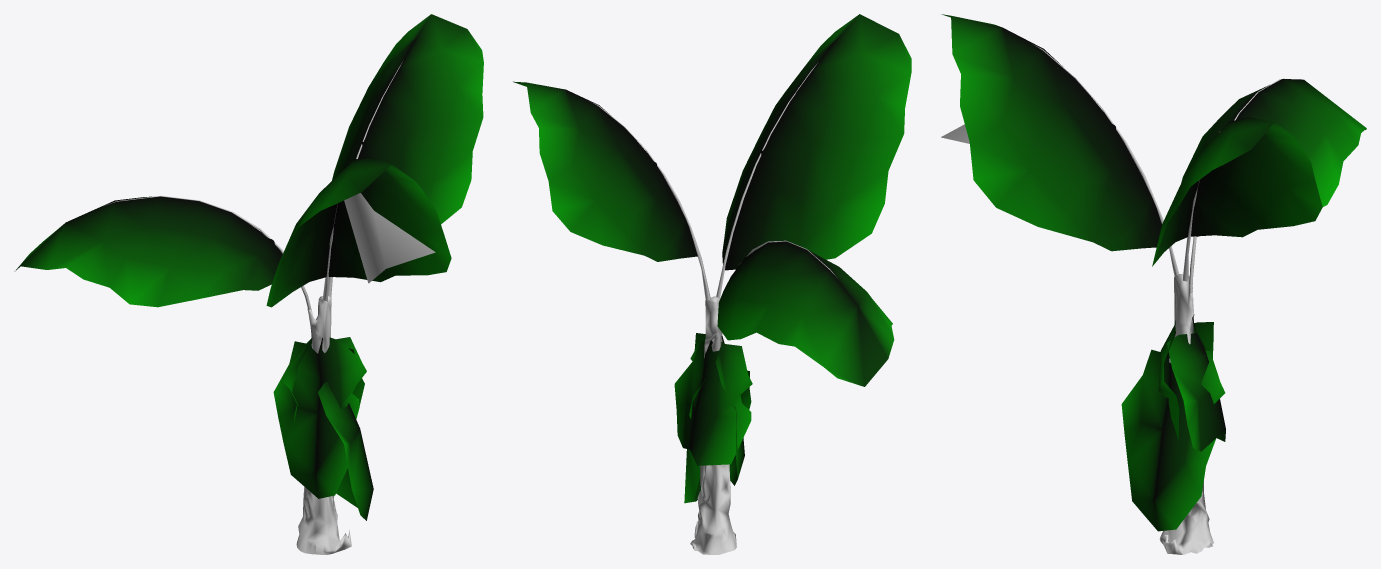
File: CoconutPalmTree04_afsTREE_xlprl05_xlod02.fbx
3 renders of one model, left to right at view 1: azimuth 30°, elevation 25°; view 2: azimuth 150°, elevation 25°; view 3: azimuth 270°, elevation 25°, orthographic. The views are drawn at different scales.
Visible parts, largest first — view 1: PalmBranch01_xw07_xt08_xlp00.004, PalmBranch01_xw10_xt08_xlp00.003, PalmBranch01_xw10_xt09_xlp00.004, DeadPalmBranch_xw01_xt02_xlp01_xp01, PalmBlade02_bent_right_xw03_xt05_xlp05.005, trunk_CoconutPalmTree04_xw03_xt03_xlp03, DeadPalmBranch_xw02_xt03_xlp02_xp03.006, DeadPalmBranch_xw01_xt02_xlp01; view 2: PalmBranch01_xw10_xt09_xlp00.004, PalmBranch01_xw10_xt08_xlp00.003, PalmBranch01_xw07_xt08_xlp00.004, DeadPalmBranch_xw01_xt02_xlp01, trunk_CoconutPalmTree04_xw03_xt03_xlp03, DeadPalmBranch_xw02_xt03_xlp02_xp03.006, DeadPalmBranch_xw01_xt02_xlp01_xp01, PalmBranch01_xw10_xt09_xlp08_xp08, PalmBranch01_xw10_xt08_xlp06_xp03; view 3: PalmBranch01_xw10_xt09_xlp00.004, PalmBranch01_xw10_xt08_xlp00.003, DeadPalmBranch_xw02_xt03_xlp02_xp03.006, PalmBranch01_xw07_xt08_xlp00.004, DeadPalmBranch_xw01_xt02_xlp01, trunk_CoconutPalmTree04_xw03_xt03_xlp03, DeadPalmBranch_xw01_xt02_xlp01_xp01, PalmBranch01_xw10_xt09_xlp08_xp08.
Part boxes in pixels (x1,y1,x2,y2): PalmBranch01_xw07_xt08_xlp00.004: (14,196,282,307); PalmBranch01_xw10_xt08_xlp00.003: (332,14,483,224); PalmBranch01_xw10_xt09_xlp00.004: (266,157,451,307); DeadPalmBranch_xw01_xt02_xlp01_xp01: (273,337,366,498); PalmBlade02_bent_right_xw03_xt05_xlp05.005: (344,193,435,283); trunk_CoconutPalmTree04_xw03_xt03_xlp03: (296,296,351,554); DeadPalmBranch_xw02_xt03_xlp02_xp03.006: (318,382,373,520); DeadPalmBranch_xw01_xt02_xlp01: (283,337,364,424); PalmBranch01_xw10_xt09_xlp00.004: (722,14,911,270); PalmBranch01_xw10_xt08_xlp00.003: (513,81,697,261); PalmBranch01_xw07_xt08_xlp00.004: (717,241,894,386); DeadPalmBranch_xw01_xt02_xlp01: (674,340,752,465); trunk_CoconutPalmTree04_xw03_xt03_xlp03: (690,296,736,554); DeadPalmBranch_xw02_xt03_xlp02_xp03.006: (684,370,751,503); DeadPalmBranch_xw01_xt02_xlp01_xp01: (690,333,744,485); PalmBranch01_xw10_xt09_xlp08_xp08: (716,62,818,298); PalmBranch01_xw10_xt08_xlp06_xp03: (589,101,710,300); PalmBranch01_xw10_xt09_xlp00.004: (942,14,1161,251); PalmBranch01_xw10_xt08_xlp00.003: (1152,117,1322,266); DeadPalmBranch_xw02_xt03_xlp02_xp03.006: (1121,349,1225,531); PalmBranch01_xw07_xt08_xlp00.004: (1181,79,1366,236); DeadPalmBranch_xw01_xt02_xlp01: (1167,317,1225,451); trunk_CoconutPalmTree04_xw03_xt03_xlp03: (1159,273,1213,554); DeadPalmBranch_xw01_xt02_xlp01_xp01: (1158,320,1213,440); PalmBranch01_xw10_xt09_xlp08_xp08: (1032,44,1179,276).
Size of what is drawn, in the model's own units: 7.18 by 5.91 by 7.76.
